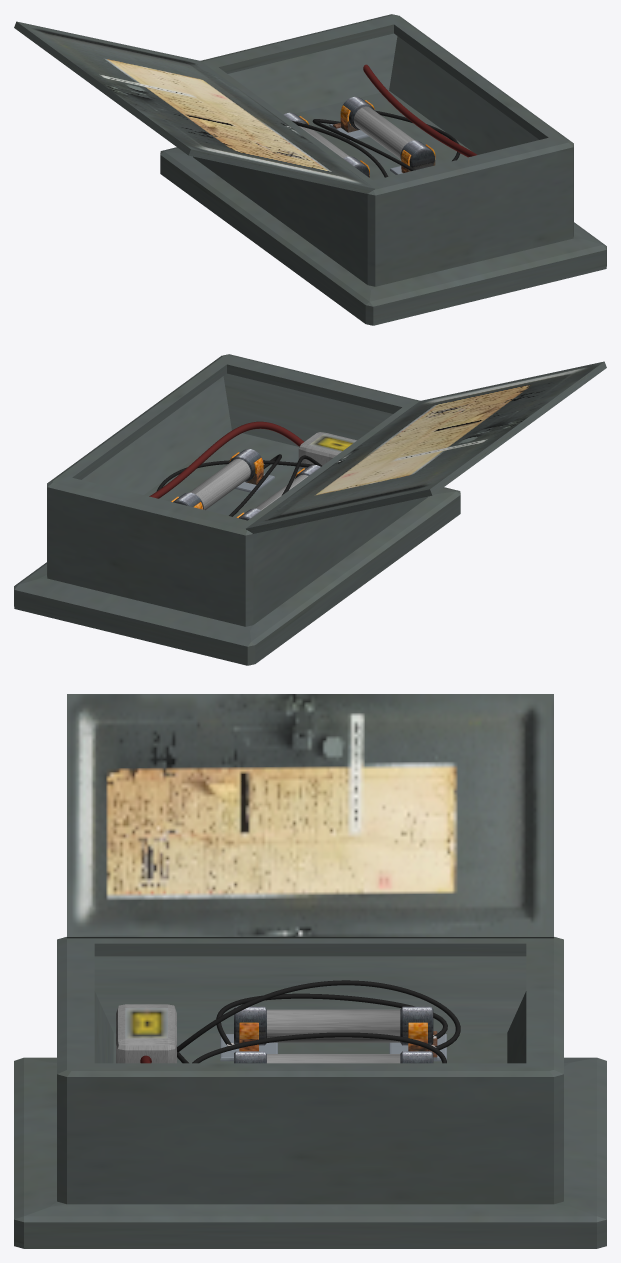
Rendered from Fuse Box.fbx.
The picture shows the model from 3 angles, top to bottom: view 1: azimuth 30°, elevation 25°; view 2: azimuth 150°, elevation 25°; view 3: azimuth 270°, elevation 25°; orthographic projection. The views are drawn at different scales.
Visible parts, largest first — view 1: Cylinder.005, Cylinder.004, NurbsPath.008, NurbsPath.004; view 2: Cylinder.005, Cylinder.004, NurbsPath.004, NurbsPath.008; view 3: Cylinder.005, NurbsPath.008, Cylinder.004.
Part boxes in pixels (x1=…): Cylinder.005: x1=14, y1=14, x2=606, y2=325; Cylinder.004: x1=342, y1=96, x2=434, y2=169; NurbsPath.008: x1=292, y1=110, x2=460, y2=177; NurbsPath.004: x1=363, y1=64, x2=476, y2=157; Cylinder.005: x1=14, y1=354, x2=606, y2=665; Cylinder.004: x1=173, y1=449, x2=261, y2=510; NurbsPath.004: x1=149, y1=421, x2=303, y2=498; NurbsPath.008: x1=156, y1=454, x2=321, y2=516; Cylinder.005: x1=14, y1=694, x2=606, y2=1248; NurbsPath.008: x1=177, y1=980, x2=460, y2=1063; Cylinder.004: x1=234, y1=1051, x2=433, y2=1063.
Size of the model in its own units: 84.9 by 40.77 by 77.6.
Materials: 20 (18 with a texture image).
